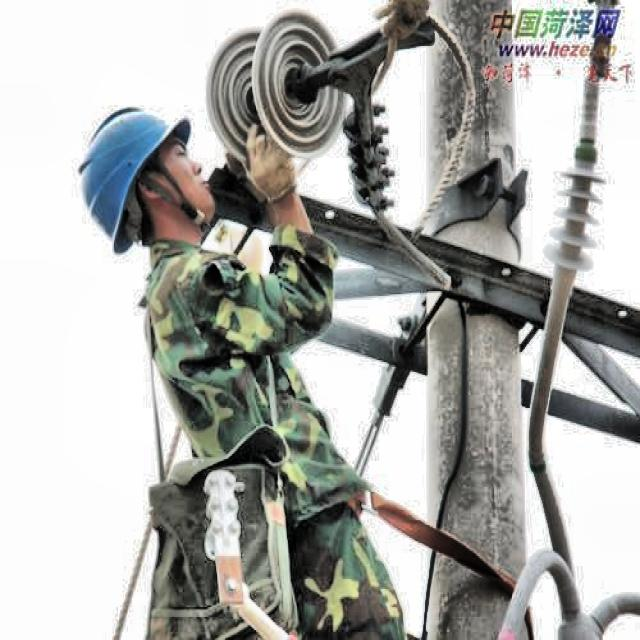helmet: (60, 76, 214, 270)
